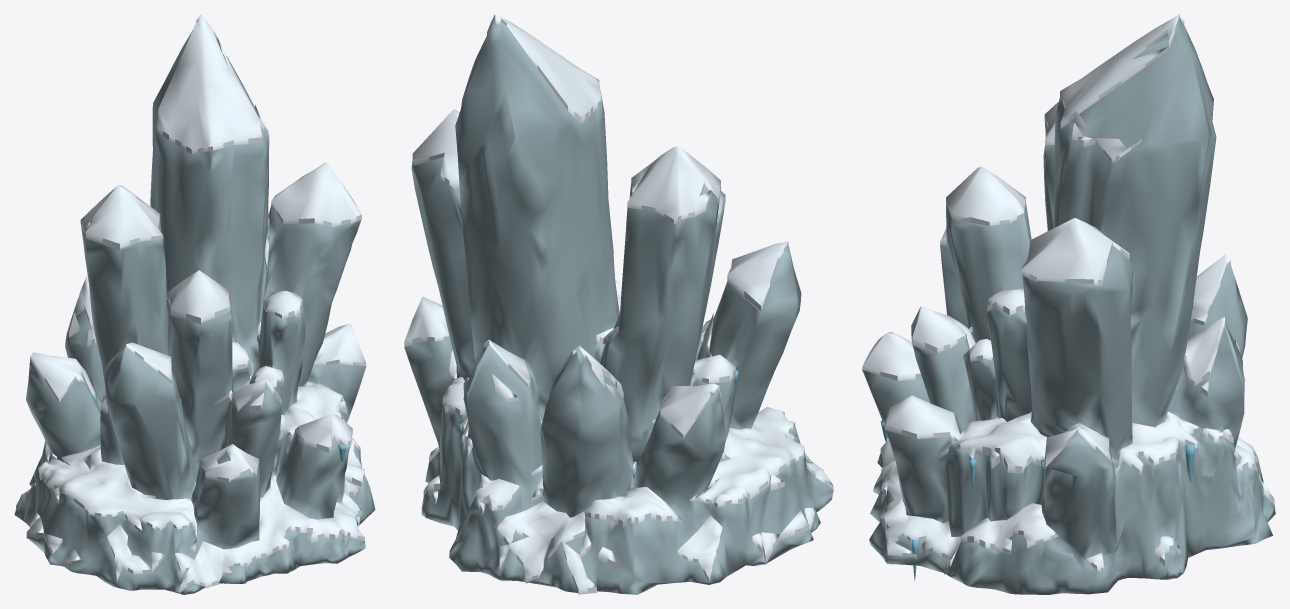
Rendered from BossRoom_GrandCrystal.fbx.
The picture shows the model from 3 angles, left to right: view 1: azimuth 30°, elevation 25°; view 2: azimuth 150°, elevation 25°; view 3: azimuth 270°, elevation 25°; orthographic projection. The views are drawn at different scales.
Visible parts, largest first — view 1: BossRoom_GrandCrystal_LOD0; view 2: BossRoom_GrandCrystal_LOD0; view 3: BossRoom_GrandCrystal_LOD0.
Boxes of the visible parts, bbox=[...] form: BossRoom_GrandCrystal_LOD0: bbox=[14, 14, 375, 594]; BossRoom_GrandCrystal_LOD0: bbox=[404, 14, 833, 594]; BossRoom_GrandCrystal_LOD0: bbox=[862, 14, 1275, 594].
Size of what is drawn, in the model's own units: 4.44 by 6.03 by 4.14.
